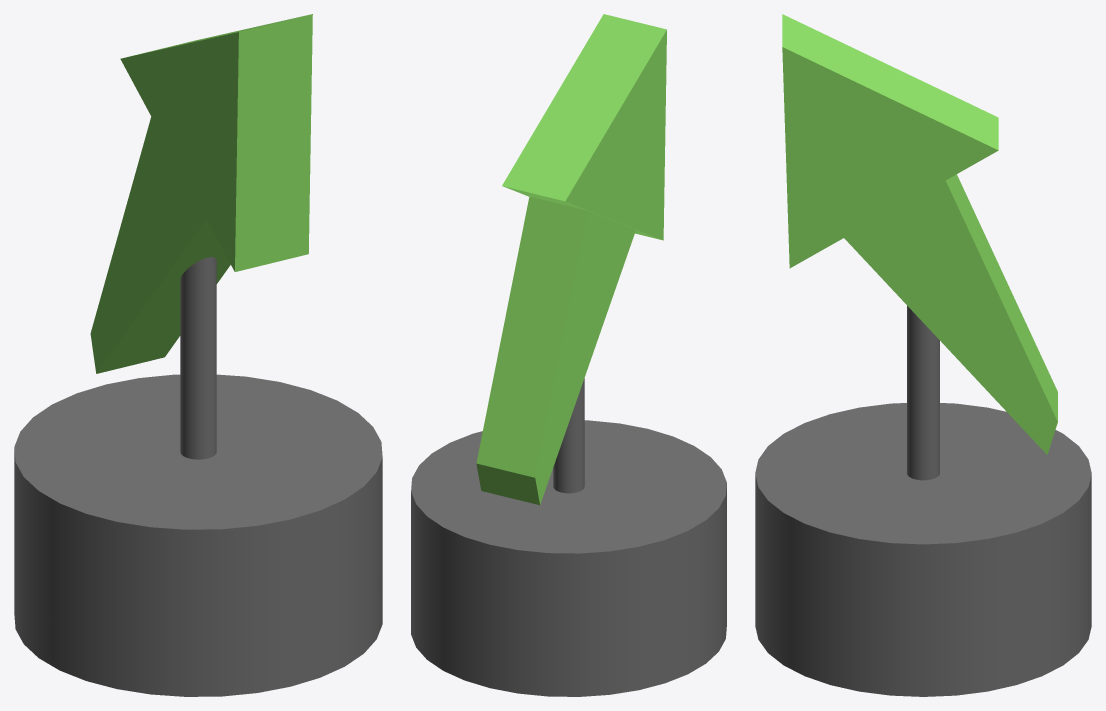
File: PowerUpBig.fbx
3 views of the same model, side by side, from view 1: azimuth 30°, elevation 25°; view 2: azimuth 150°, elevation 25°; view 3: azimuth 270°, elevation 25° (orthographic). The views are drawn at different scales.
Visible parts, largest first — view 1: PowerUpBig; view 2: PowerUpBig; view 3: PowerUpBig.
Part boxes in pixels (x1,y1,x2,y2): PowerUpBig: (14,14,382,696); PowerUpBig: (411,14,726,696); PowerUpBig: (755,14,1091,696).
Bounding box in the file's own units: 59.71 × 117 × 59.71.
